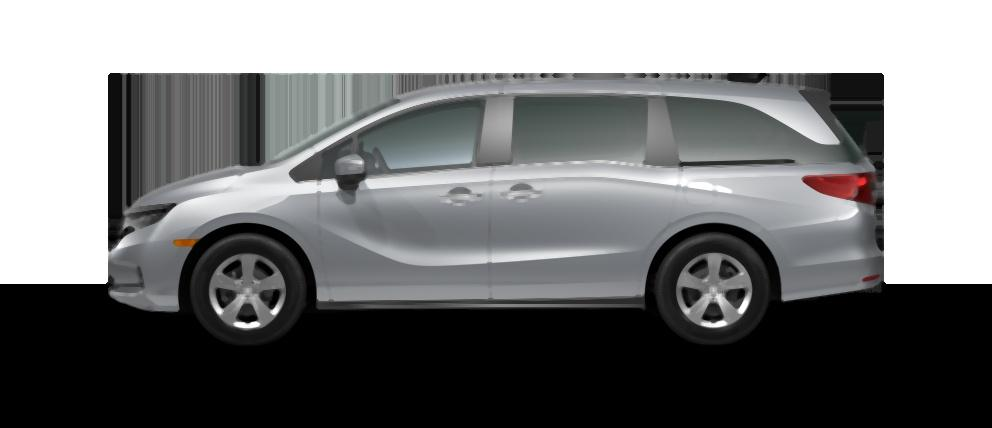Car hood: (123, 161, 280, 215)
Fender - -F-L-: (165, 175, 330, 318)
Fender - -R-L-: (674, 163, 819, 305)
Front bumper: (106, 234, 185, 325)
Headlight - -L-: (111, 195, 182, 245)
Passenger-s door - -F-L-: (320, 96, 491, 300)
Passenger-s door - -R-L-: (488, 89, 688, 299)
Rear bumper: (769, 216, 889, 313)
Rear light - -L-: (799, 160, 882, 212)
Side bumper - -L-: (312, 276, 655, 318)
Side mirror - -L-: (329, 150, 371, 197)
